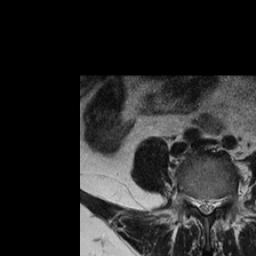CCS_stenosis: (203, 191, 210, 221)
LFS_normal: (217, 187, 225, 215)
LLS_normal: (210, 189, 217, 216)
RFS_normal: (187, 186, 195, 212)
RLS_normal: (195, 191, 203, 217)
